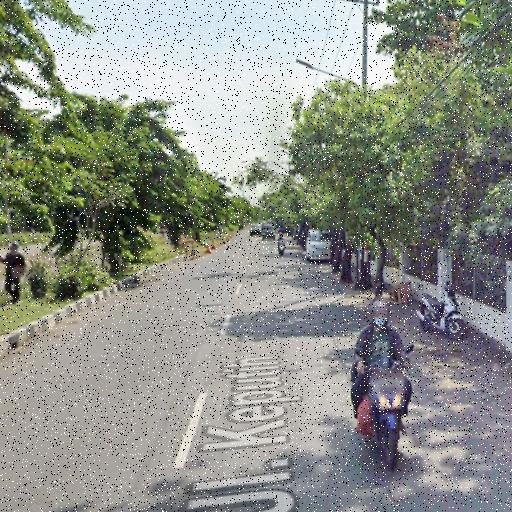Helmet: (371, 300, 389, 326), (10, 242, 19, 248)
Motor: (365, 358, 407, 470), (417, 282, 465, 339), (278, 240, 285, 256)
